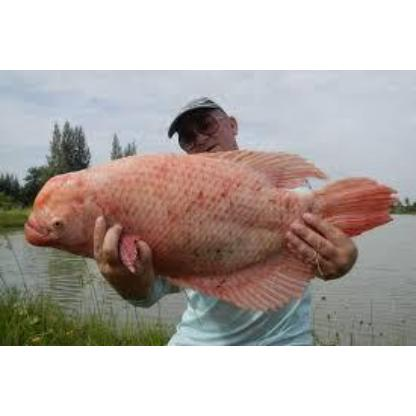gurame: (26, 155, 372, 301)
